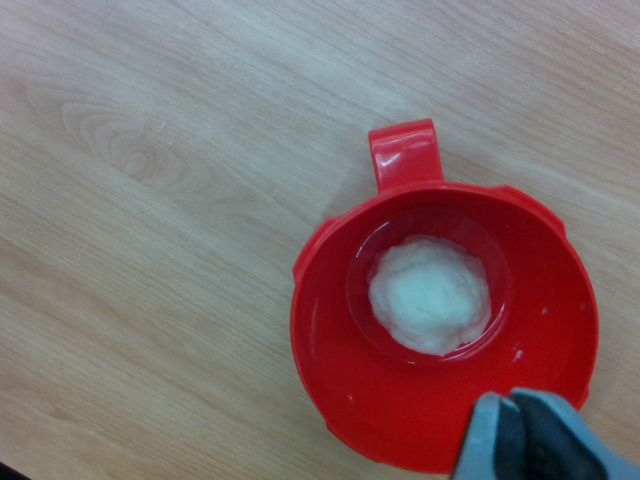mashed_potato: (369, 236, 491, 354)
